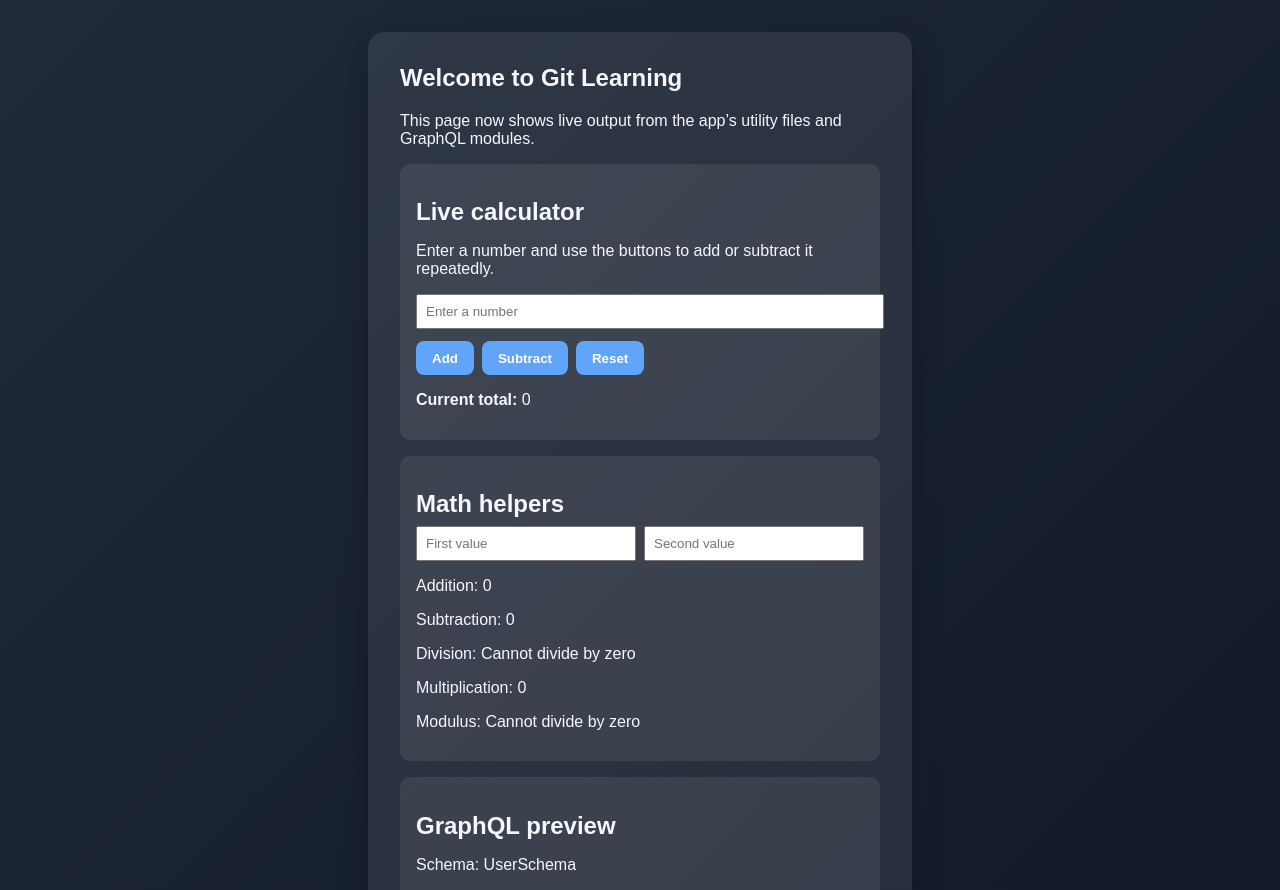
Test: App › updates the math helper output from both inputs
This screenshot has width=1280, height=890.
Type "9" into the number field with placeholder "First value" at (526, 544), box [416,526,636,561]
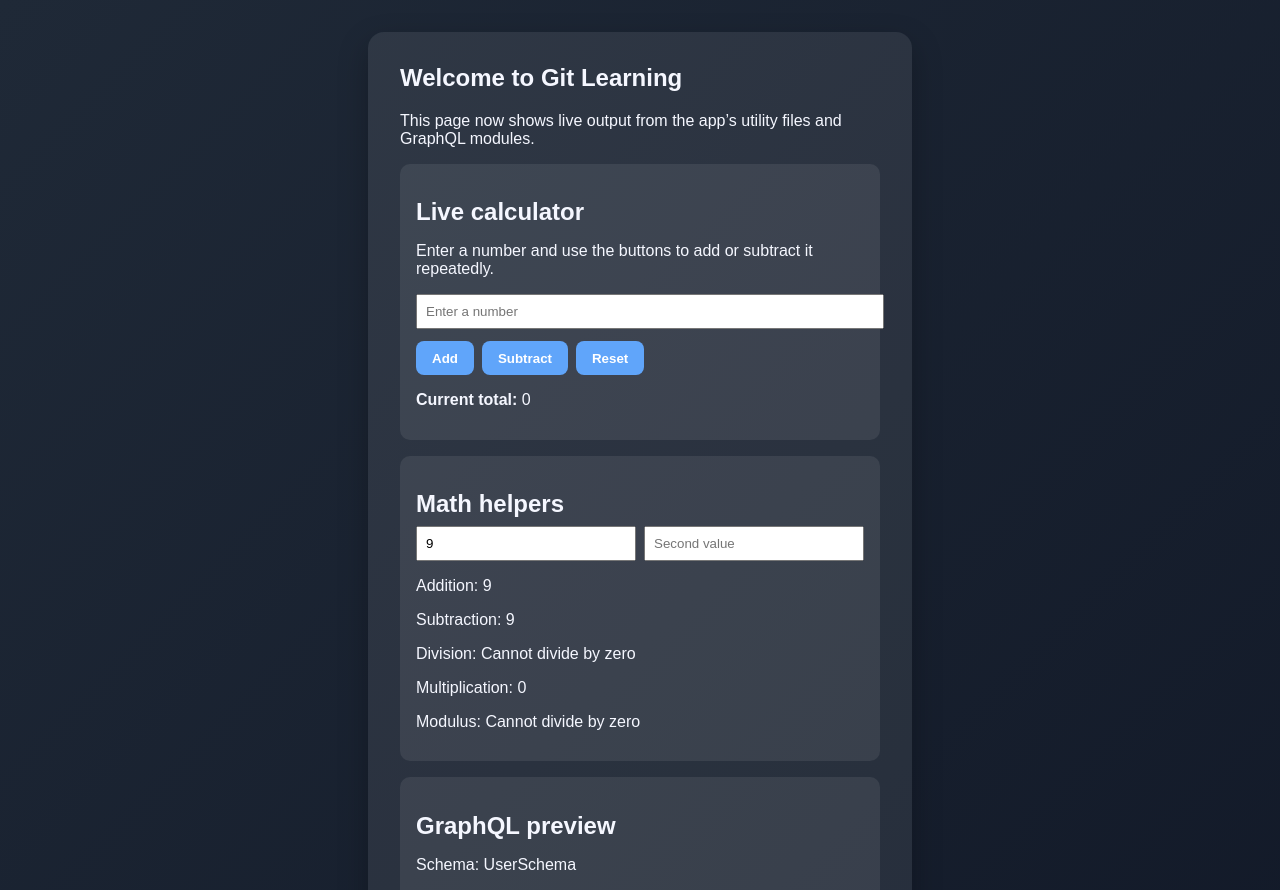
Type "4" into the number field with placeholder "Second value" at (754, 544), box [644,526,864,561]
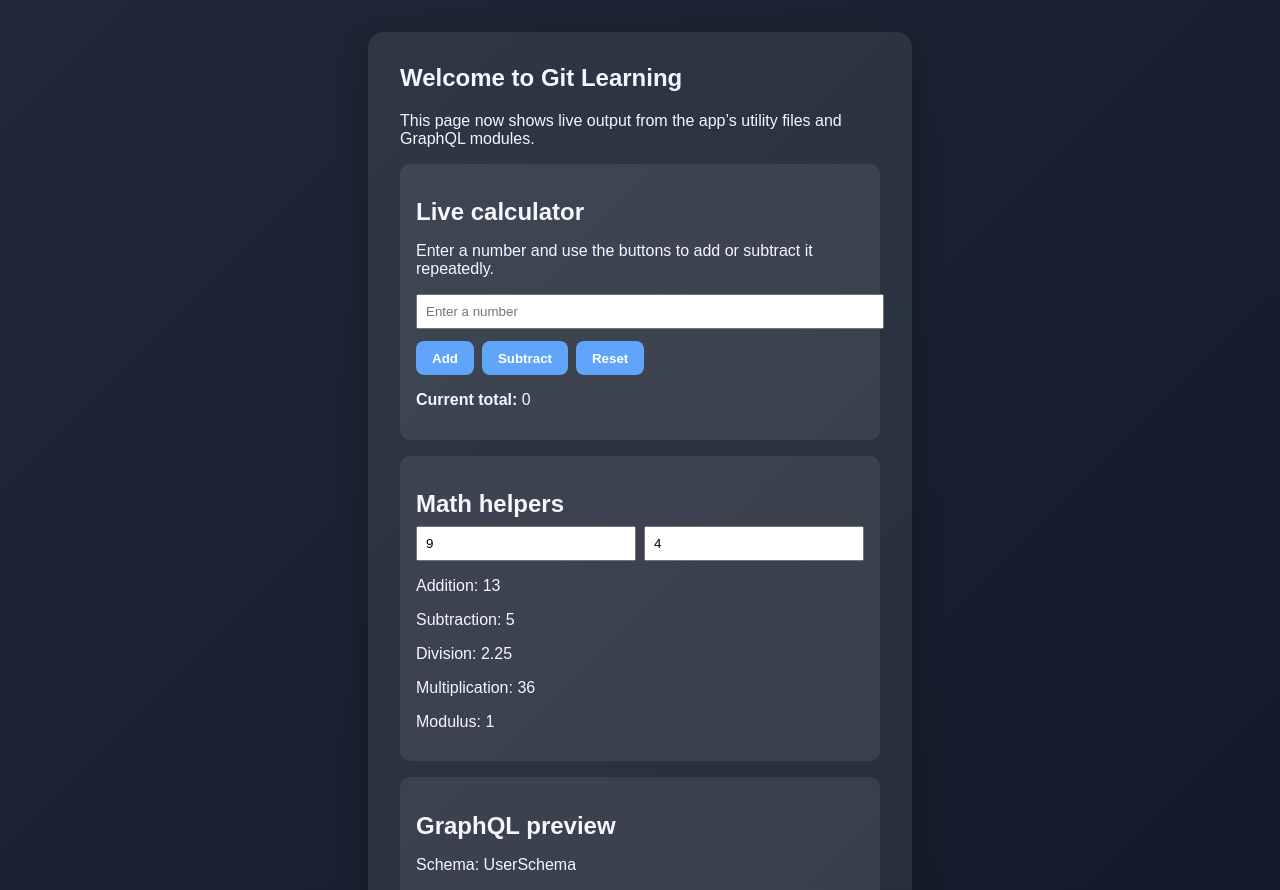
Check: the text "Addition: 13" is shown, box [416,577,500,594]
Check: the text "Subtraction: 5" is shown, box [416,611,515,628]
Check: the text "Division: 2.25" is shown, box [416,645,512,662]
